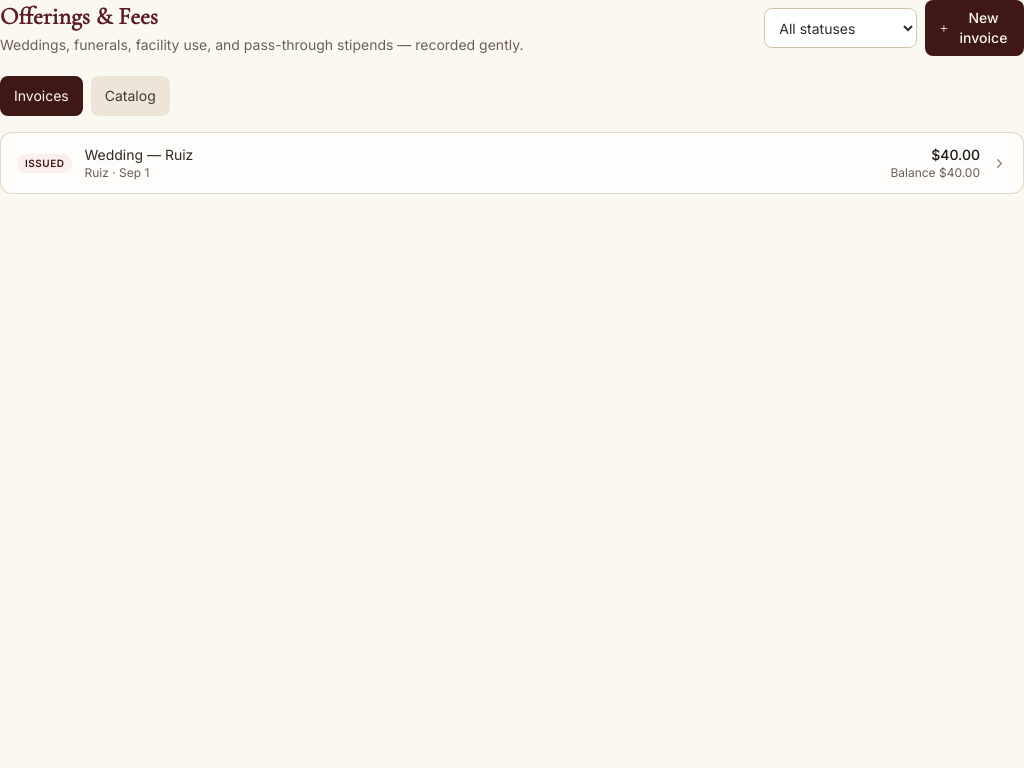
invoice detail and the printed sheet › does not paint $0.00 when the detail did not load
Click the button "Issued Wedding — Ruiz Ruiz · Sep 1 $40.00 Balance $40.00": click(45, 163) [0, 132, 1023, 194]
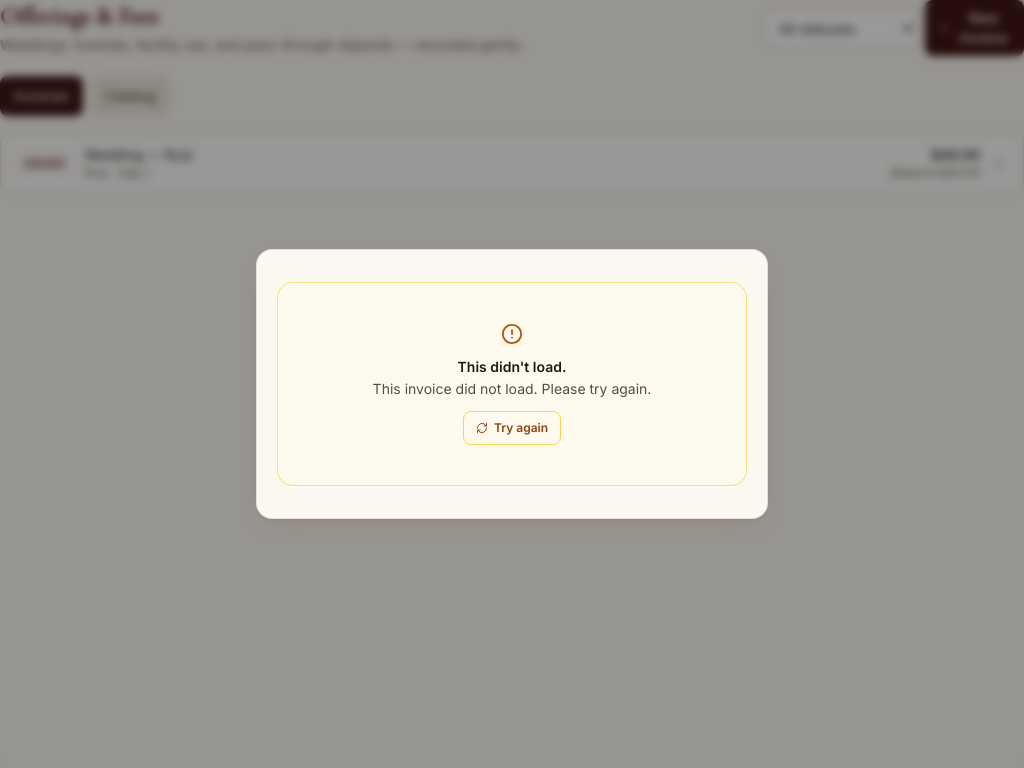
Expected: the text "This invoice did not load. Please try again." is shown, [373, 379, 651, 399]
Expected: the button "Try again" is shown, [463, 411, 561, 445]
